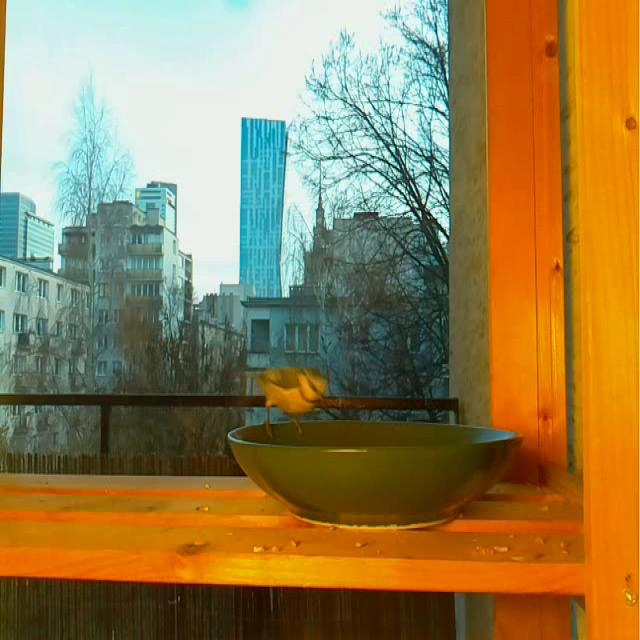Modraszka: (256, 364, 329, 421)
